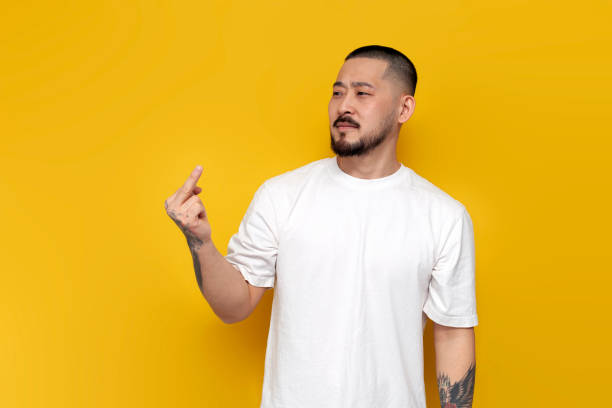insulting_gesture: (161, 162, 215, 255)
